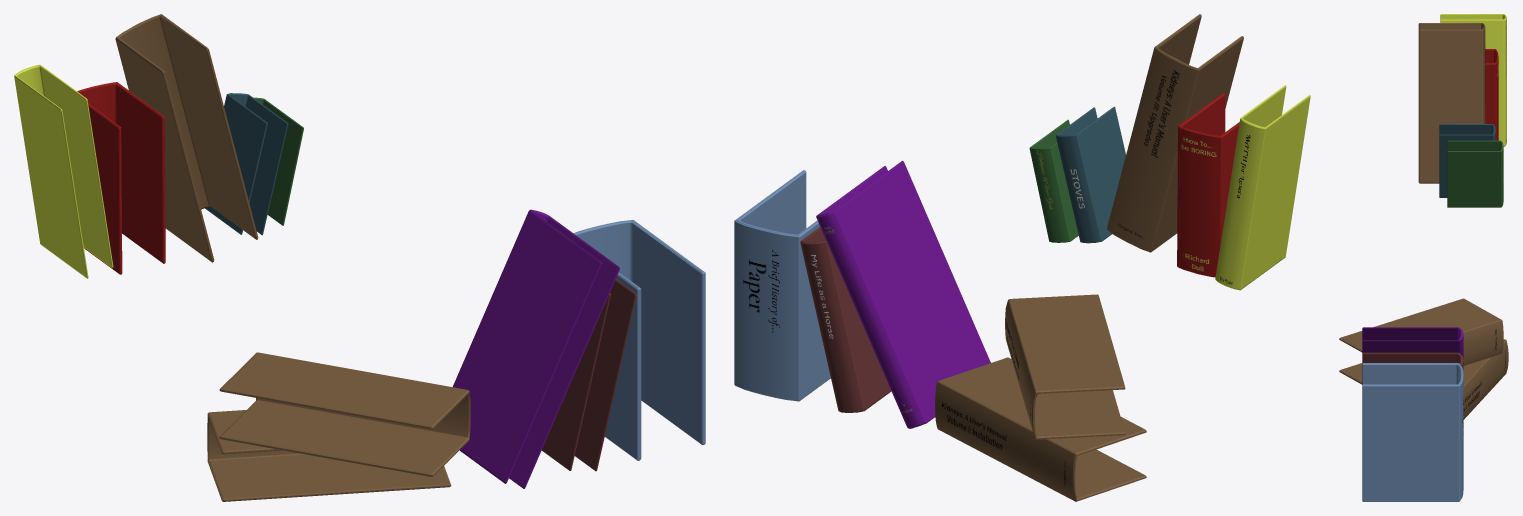
Rendered from kitchen-book1.obj.
3 views of the same model, side by side, from view 1: azimuth 30°, elevation 25°; view 2: azimuth 150°, elevation 25°; view 3: azimuth 270°, elevation 25° (orthographic). The views are drawn at different scales.
Parts seen in each view (by area): view 1: Cylinder.006_Cylinder.012, Cylinder.009_Cylinder.016, Cylinder, Cylinder.010_Cylinder.017, Cylinder.004_Cylinder.006, Cylinder.007_Cylinder.014, Cylinder.008_Cylinder.015, Cylinder.001_Cylinder.002, Cylinder.011_Cylinder.020, Cylinder.003_Cylinder.004; view 2: Cylinder.006_Cylinder.012, Cylinder, Cylinder.009_Cylinder.016, Cylinder.010_Cylinder.017, Cylinder.008_Cylinder.015, Cylinder.004_Cylinder.006, Cylinder.007_Cylinder.014, Cylinder.001_Cylinder.002, Cylinder.011_Cylinder.020, Cylinder.003_Cylinder.004; view 3: Cylinder, Cylinder.010_Cylinder.017, Cylinder.009_Cylinder.016, Cylinder.003_Cylinder.004, Cylinder.006_Cylinder.012, Cylinder.004_Cylinder.006, Cylinder.008_Cylinder.015, Cylinder.011_Cylinder.020, Cylinder.001_Cylinder.002, Cylinder.007_Cylinder.014.
Boxes of the visible parts, box(x1,y1,x2,y2) form: Cylinder.006_Cylinder.012: box(452, 209, 619, 488); Cylinder.009_Cylinder.016: box(219, 352, 470, 476); Cylinder: box(573, 220, 705, 460); Cylinder.010_Cylinder.017: box(115, 14, 258, 262); Cylinder.004_Cylinder.006: box(14, 64, 113, 278); Cylinder.007_Cylinder.014: box(77, 82, 165, 274); Cylinder.008_Cylinder.015: box(207, 410, 451, 501); Cylinder.001_Cylinder.002: box(541, 279, 636, 471); Cylinder.011_Cylinder.020: box(205, 93, 288, 235); Cylinder.003_Cylinder.004: box(254, 97, 303, 225); Cylinder.006_Cylinder.012: box(816, 160, 990, 428); Cylinder: box(734, 170, 830, 401); Cylinder.009_Cylinder.016: box(1005, 294, 1125, 439); Cylinder.010_Cylinder.017: box(1107, 14, 1243, 252); Cylinder.008_Cylinder.015: box(935, 357, 1146, 501); Cylinder.004_Cylinder.006: box(1215, 85, 1310, 290); Cylinder.007_Cylinder.014: box(1177, 93, 1239, 277); Cylinder.001_Cylinder.002: box(800, 227, 891, 412); Cylinder.011_Cylinder.020: box(1056, 106, 1125, 243); Cylinder.003_Cylinder.004: box(1029, 119, 1078, 242); Cylinder: box(1362, 363, 1463, 501); Cylinder.010_Cylinder.017: box(1418, 23, 1485, 183); Cylinder.009_Cylinder.016: box(1339, 298, 1503, 384); Cylinder.003_Cylinder.004: box(1447, 140, 1503, 207); Cylinder.006_Cylinder.012: box(1362, 327, 1463, 359); Cylinder.004_Cylinder.006: box(1440, 14, 1506, 146); Cylinder.008_Cylinder.015: box(1463, 339, 1508, 419); Cylinder.011_Cylinder.020: box(1439, 124, 1495, 197); Cylinder.001_Cylinder.002: box(1362, 352, 1463, 373); Cylinder.007_Cylinder.014: box(1485, 49, 1498, 140).
Size of the model in its own units: 1.95 by 1.51 by 0.72.
1 material, 1 textured.
